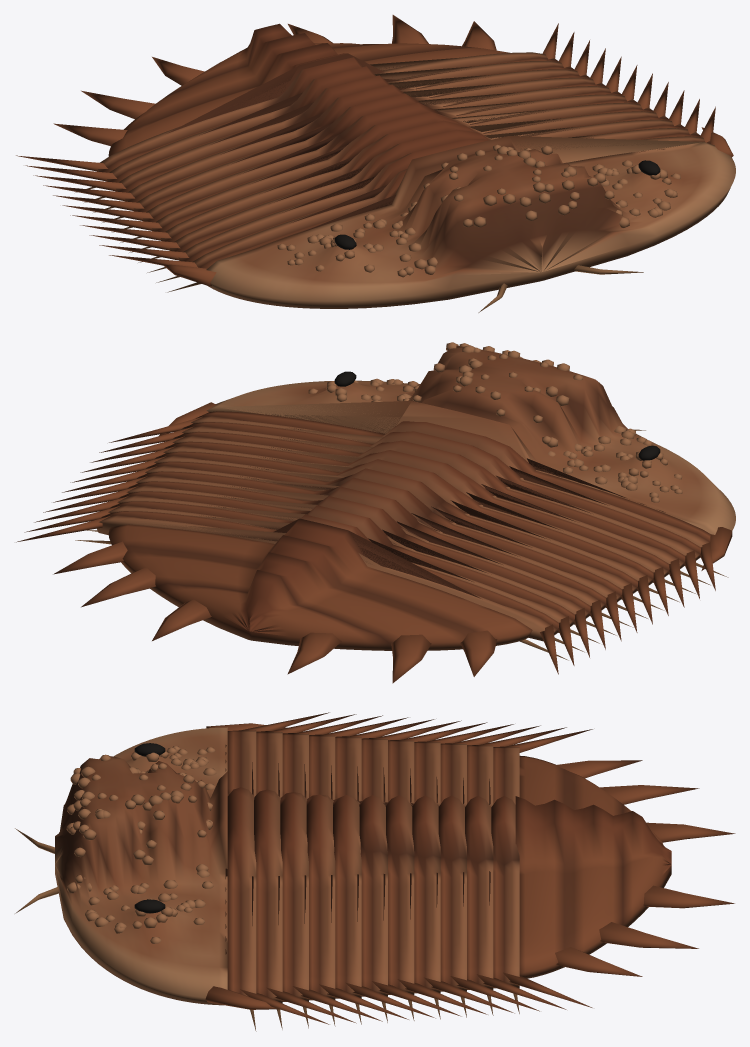
File: ArctinurusBoltoni.fbx
The picture shows the model from 3 angles, top to bottom: view 1: azimuth 30°, elevation 25°; view 2: azimuth 150°, elevation 25°; view 3: azimuth 270°, elevation 25°; orthographic projection. The views are drawn at different scales.
Parts seen in each view (by area): view 1: ArctinurusBoltoni; view 2: ArctinurusBoltoni; view 3: ArctinurusBoltoni.
Part boxes in pixels (x1,y1,x2,y2): ArctinurusBoltoni: (16, 15, 735, 312); ArctinurusBoltoni: (16, 342, 735, 683); ArctinurusBoltoni: (15, 712, 735, 1031).
Size of the model in its own units: 1.44 by 0.2302 by 1.4.
